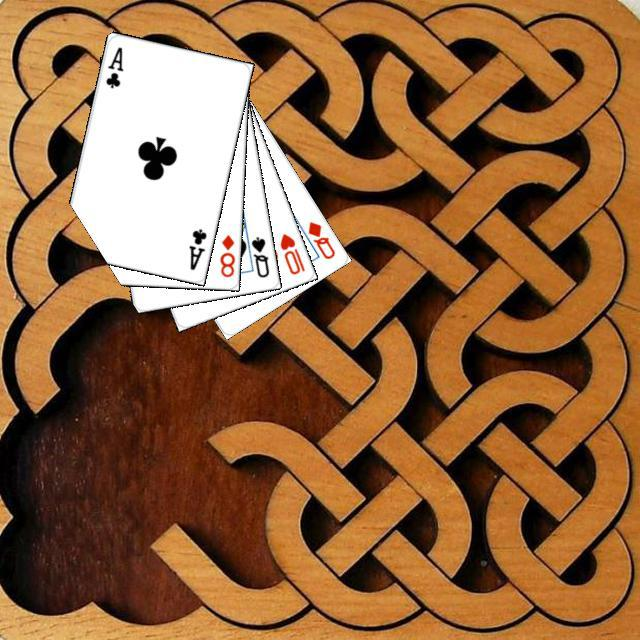10h: (275, 228, 307, 276)
8d: (215, 230, 236, 278)
Ac: (184, 224, 208, 272), (101, 42, 125, 90)
Qd: (303, 216, 337, 261)
Qs: (246, 232, 271, 279)
